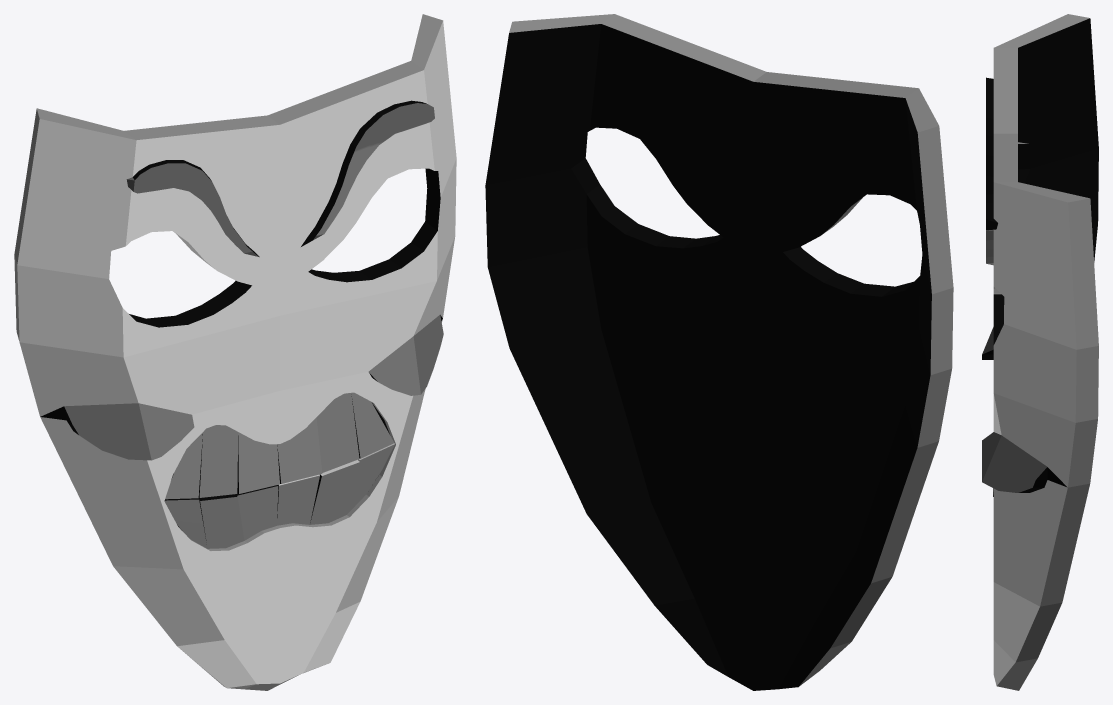
The model's file is AngerMask.fbx.
The picture shows the model from 3 angles, left to right: view 1: azimuth 30°, elevation 25°; view 2: azimuth 150°, elevation 25°; view 3: azimuth 270°, elevation 25°; orthographic projection. The views are drawn at different scales.
Parts seen in each view (by area): view 1: Cube; view 2: Cube; view 3: Cube.
Boxes of the visible parts, left/top/right/bottom form: Cube: left=14, top=14, right=456, bottom=690; Cube: left=485, top=14, right=953, bottom=690; Cube: left=982, top=14, right=1098, bottom=690.
Size of the model in its own units: 330 by 432 by 79.42.
